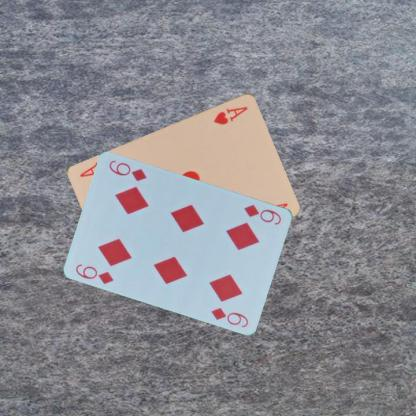6d: (73, 261, 115, 286), (242, 201, 283, 226)
Ah: (211, 103, 249, 126)
